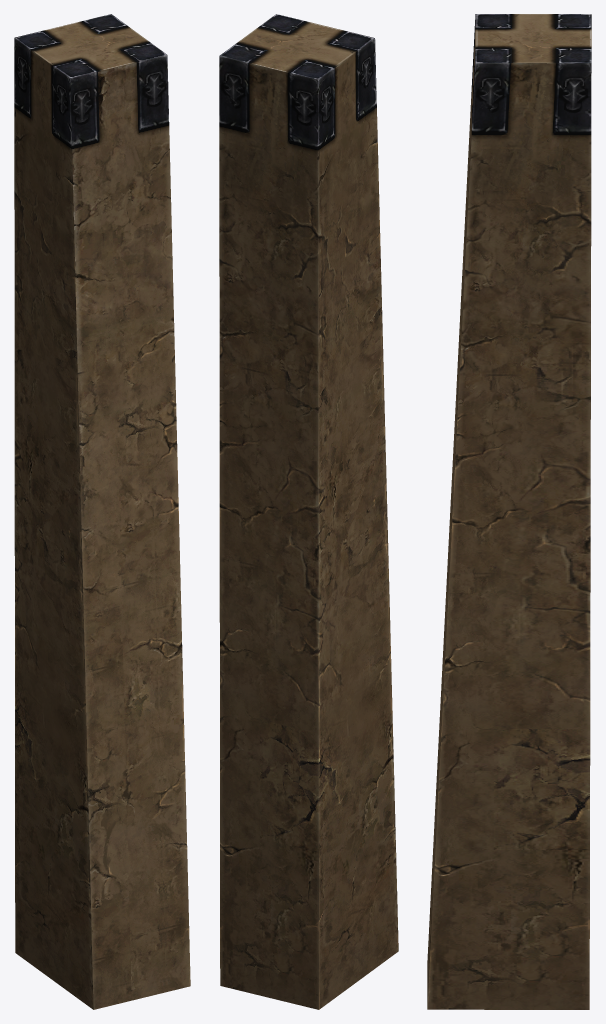
Rendered from a_zhuzi005.fbx.
3 renders of one model, left to right at view 1: azimuth 30°, elevation 25°; view 2: azimuth 150°, elevation 25°; view 3: azimuth 270°, elevation 25°, orthographic. The views are drawn at different scales.
Visible parts, largest first — view 1: A_zhuzi005; view 2: A_zhuzi005; view 3: A_zhuzi005.
Part boxes in pixels (x1,y1,x2,y2): A_zhuzi005: (14,14,190,1009); A_zhuzi005: (219,14,398,1009); A_zhuzi005: (427,14,591,1009).
Size of the model in its own units: 200 by 1800 by 283.
